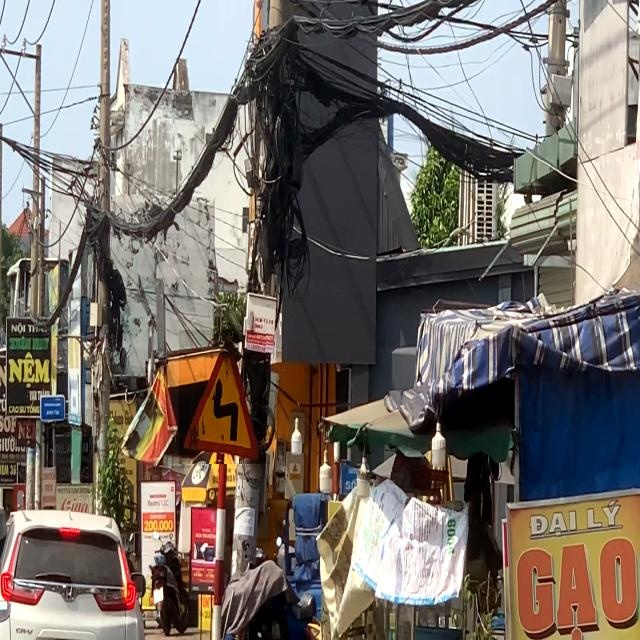bien_nguy_hiem: (179, 330, 266, 464)
